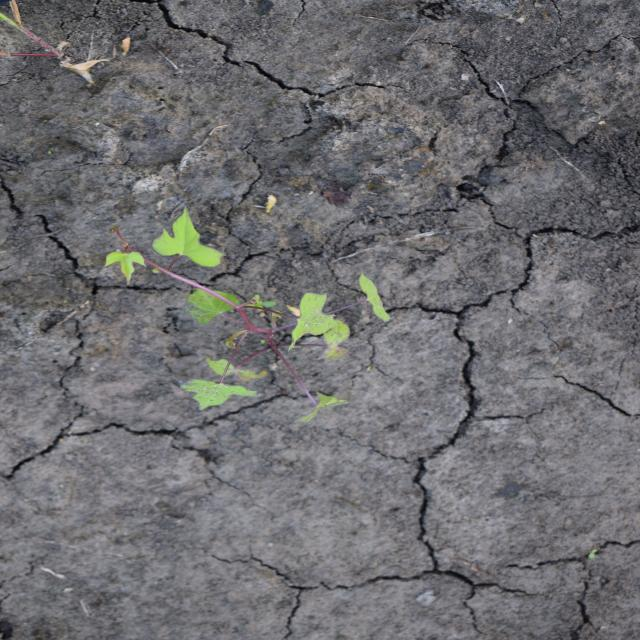MorningGlory: (102, 204, 393, 424)
